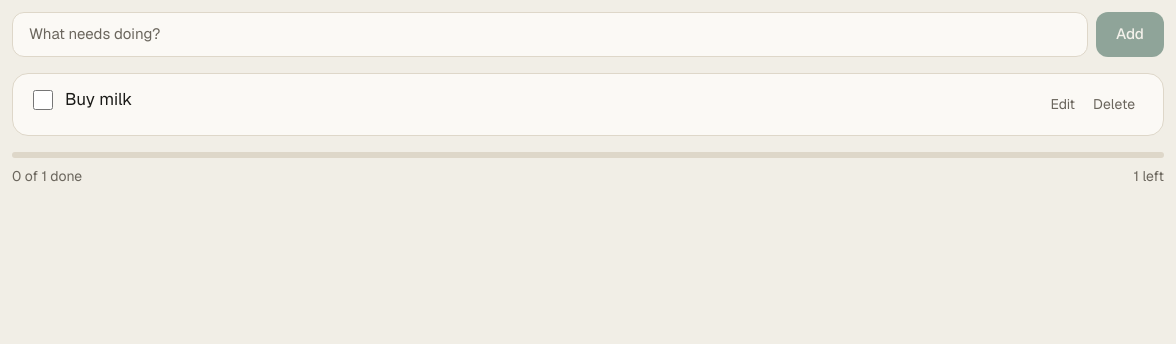
Scenario: TodoList › cancels an edit without saving
The width and height of the screenshot is (1176, 344).
Click the button "Edit".
click(1063, 104)  # box [1042,88,1083,120]
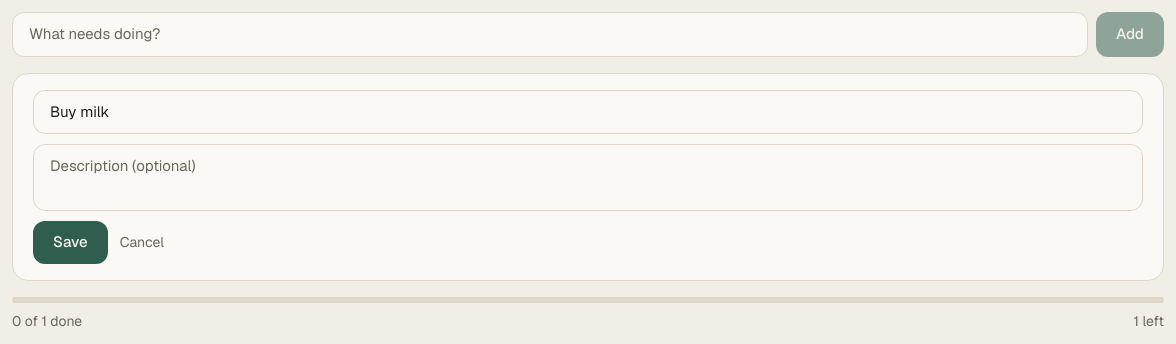
Click the button "Cancel".
click(142, 242)  # box [112,226,172,259]
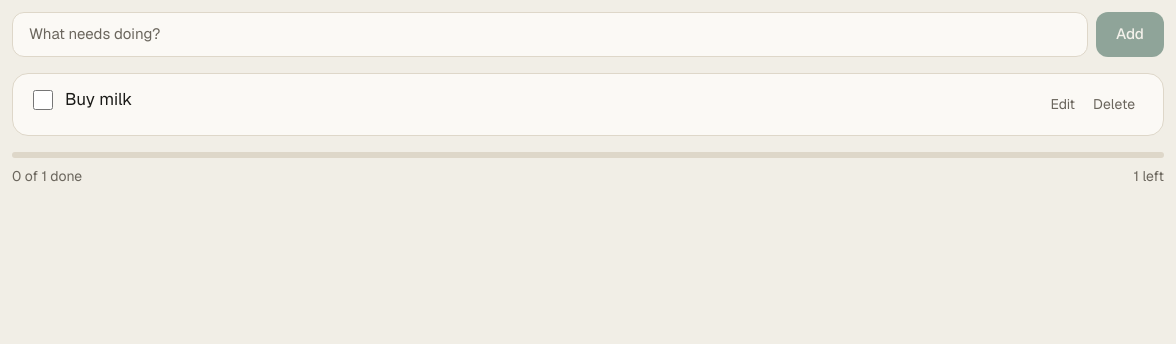
Check: the text "Buy milk" is shown, box [65,88,132,110]
